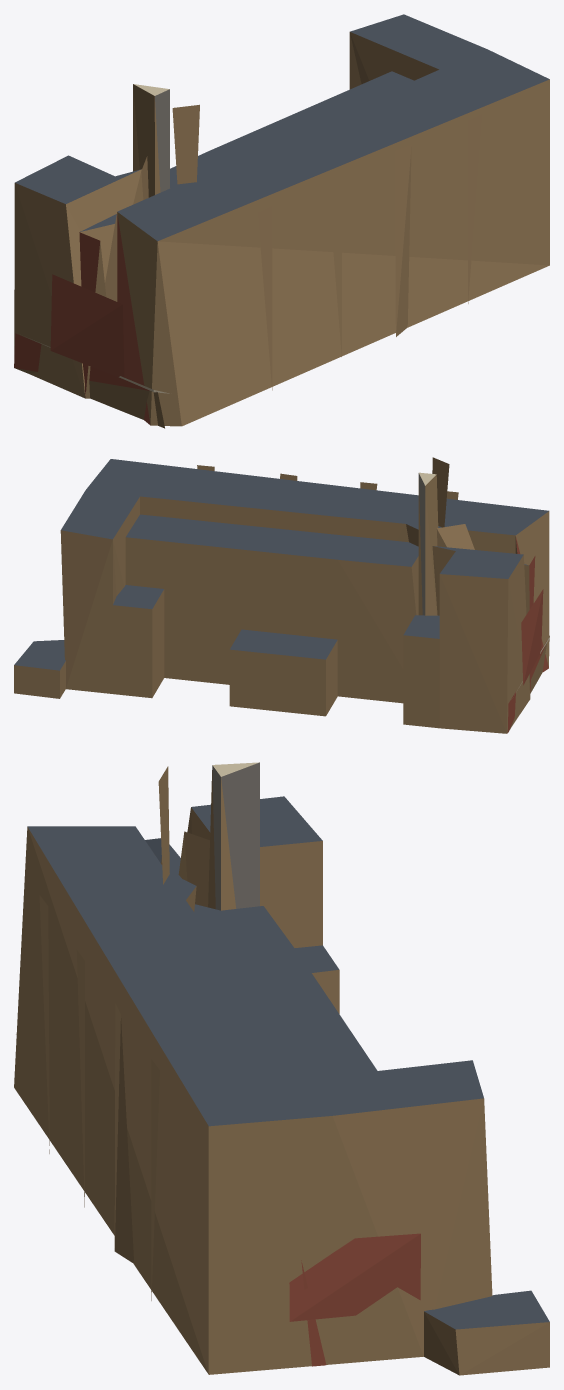
The model's file is midwest.lod2.glb.
3 renders of one model, top to bottom at view 1: azimuth 30°, elevation 25°; view 2: azimuth 150°, elevation 25°; view 3: azimuth 270°, elevation 25°, orthographic. The views are drawn at different scales.
Visible parts, largest first — view 1: lod2; view 2: lod2; view 3: lod2.
Part boxes in pixels (x1,y1,x2,y2): lod2: [14, 14, 549, 428]; lod2: [14, 457, 549, 733]; lod2: [14, 762, 549, 1375].
Bounding box in the file's own units: 42.71 × 21.25 × 29.22.
